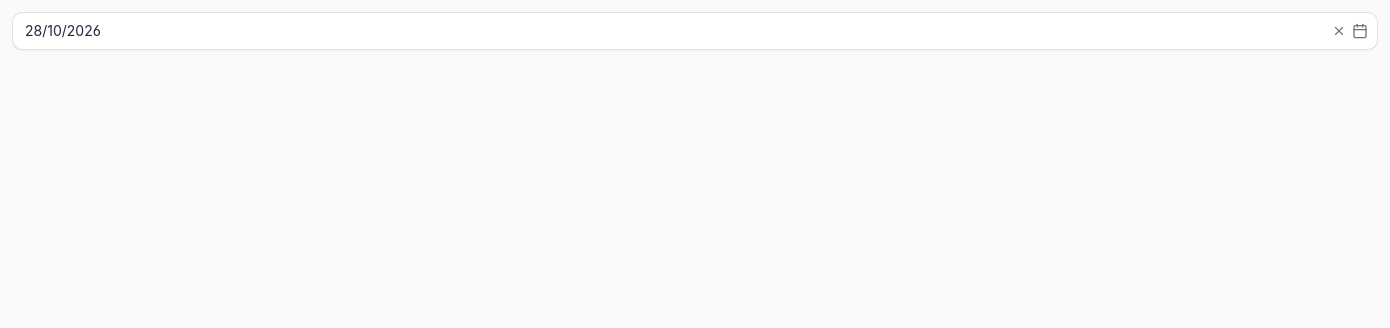
Test: DatePicker — format and validation safeguards › renders input with font-normal and opens calendar popup on focus or click
Expected: the field showing "October" is not shown
Clicking input opens popup
Click the field. click: point(695, 31)
box: [12,12,1378,50]
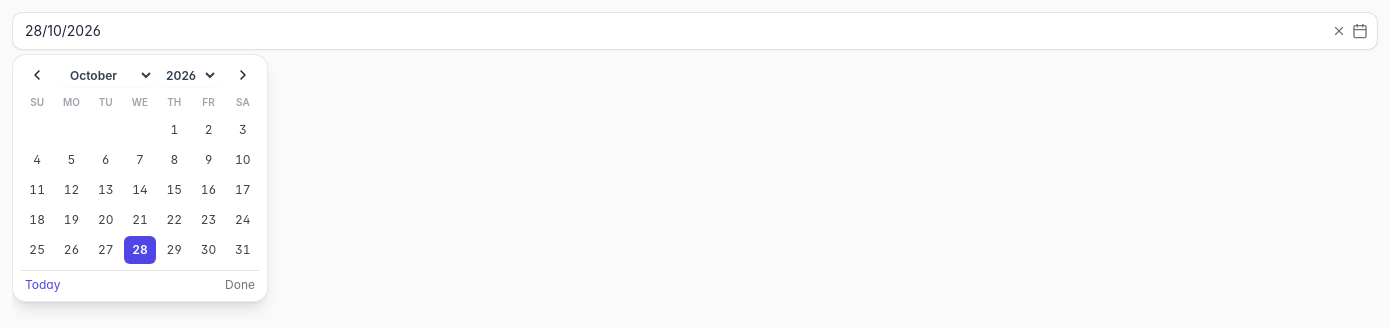
Expected: the 1st dropdown showing "October" is shown, [62,64,154,86]
Expected: the 2nd dropdown showing "2026" is shown, [158,64,218,86]
